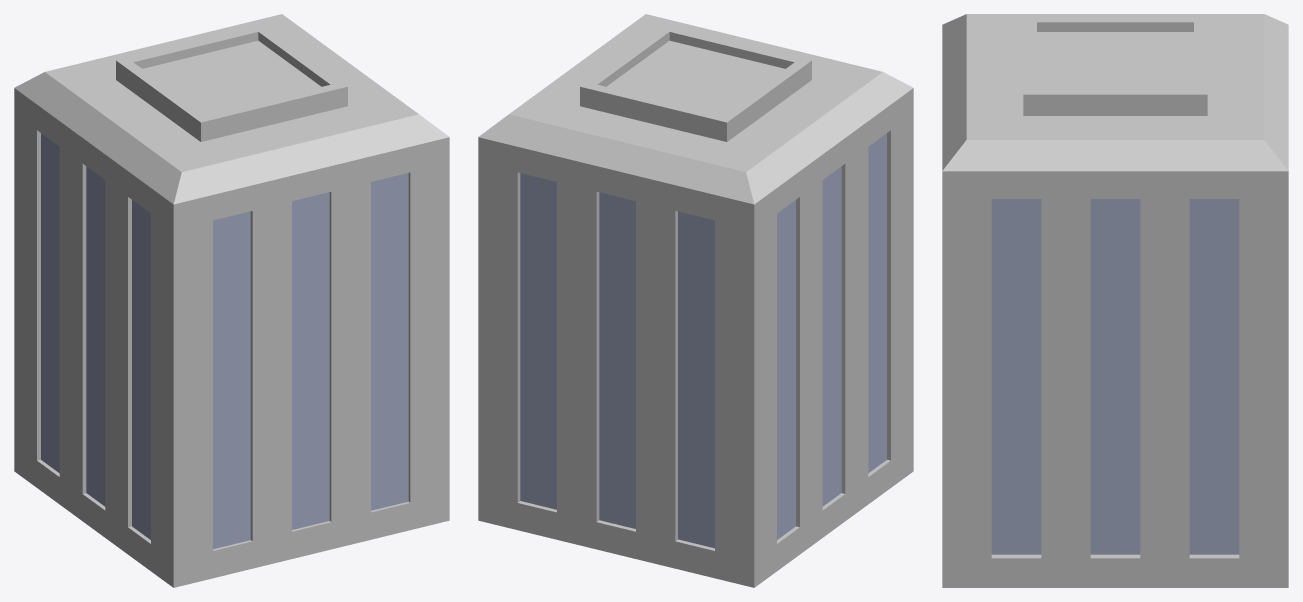
The model's file is Colapse_B_GridBank.fbx.
The picture shows the model from 3 angles, left to right: view 1: azimuth 30°, elevation 25°; view 2: azimuth 150°, elevation 25°; view 3: azimuth 270°, elevation 25°; orthographic projection. The views are drawn at different scales.
Parts seen in each view (by area): view 1: 1, 3, 2; view 2: 1, 3, 2; view 3: 1, 3, 2.
Part boxes in pixels (bbox=[...]): 1: bbox=[14, 14, 449, 340]; 3: bbox=[14, 334, 449, 587]; 2: bbox=[14, 224, 449, 450]; 1: bbox=[478, 14, 913, 340]; 3: bbox=[478, 334, 913, 587]; 2: bbox=[478, 224, 913, 450]; 1: bbox=[942, 14, 1288, 318]; 3: bbox=[942, 434, 1288, 587]; 2: bbox=[942, 315, 1288, 438].
Bounding box in the file's own units: 133 × 195 × 133.
